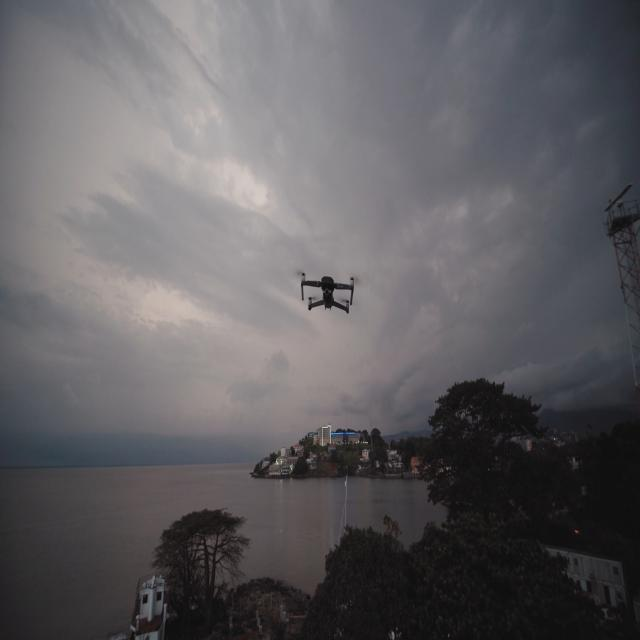drone: (300, 272, 354, 314)
